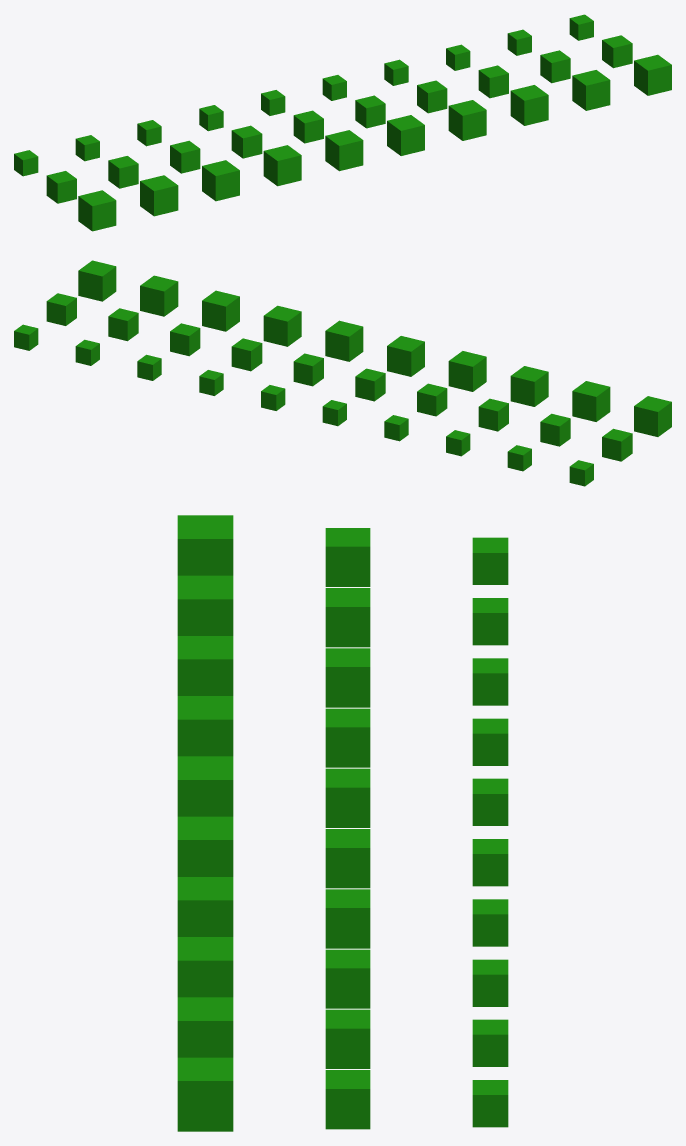
File: FlowersLvl4Decorative.fbx
3 renders of one model, top to bottom at view 1: azimuth 30°, elevation 25°; view 2: azimuth 150°, elevation 25°; view 3: azimuth 270°, elevation 25°, orthographic. The views are drawn at different scales.
Visible parts, largest first — view 1: Jasmine3, Lilac3, Hyacinth3, Hippeastrum3, Gladiolus3, Eustoma3, Gerbera3, Aster3, Gypsophila3, Calla3, Jasmine2, Hippeastrum2 (+18 smaller); view 2: Hippeastrum3, Gerbera3, Calla3, Aster3, Gypsophila3, Jasmine3, Lilac3, Gladiolus3, Eustoma3, Hyacinth3, Hippeastrum2, Aster2 (+18 smaller); view 3: Aster3, Gerbera3, Gladiolus3, Eustoma3, Hyacinth3, Gypsophila3, Jasmine3, Lilac3, Hippeastrum3, Calla3, Hippeastrum2, Calla2 (+18 smaller).
Part boxes in pixels (left/top/right/bottom): Jasmine3: left=263, top=145, right=301, bottom=186; Lilac3: left=140, top=175, right=178, bottom=216; Hyacinth3: left=510, top=85, right=548, bottom=125; Hippeastrum3: left=448, top=100, right=486, bottom=140; Gladiolus3: left=325, top=130, right=363, bottom=171; Eustoma3: left=78, top=190, right=116, bottom=231; Gerbera3: left=572, top=70, right=610, bottom=110; Aster3: left=634, top=54, right=671, bottom=95; Gypsophila3: left=387, top=115, right=424, bottom=155; Calla3: left=202, top=160, right=239, bottom=201; Jasmine2: left=231, top=125, right=262, bottom=158; Hippeastrum2: left=417, top=80, right=447, bottom=113; Hippeastrum3: left=263, top=305, right=301, bottom=346; Gerbera3: left=140, top=275, right=178, bottom=316; Calla3: left=510, top=366, right=548, bottom=406; Aster3: left=78, top=260, right=116, bottom=301; Gypsophila3: left=325, top=320, right=363, bottom=361; Jasmine3: left=448, top=351, right=486, bottom=391; Lilac3: left=572, top=381, right=610, bottom=421; Gladiolus3: left=387, top=336, right=424, bottom=376; Eustoma3: left=634, top=396, right=671, bottom=436; Hyacinth3: left=202, top=290, right=239, bottom=331; Hippeastrum2: left=231, top=338, right=262, bottom=371; Aster2: left=46, top=293, right=76, bottom=325; Aster3: left=177, top=1057, right=233, bottom=1131; Gerbera3: left=177, top=997, right=233, bottom=1057; Gladiolus3: left=177, top=756, right=233, bottom=816; Eustoma3: left=177, top=515, right=233, bottom=575; Hyacinth3: left=177, top=937, right=233, bottom=997; Gypsophila3: left=177, top=816, right=233, bottom=876; Jasmine3: left=177, top=696, right=233, bottom=756; Lilac3: left=177, top=575, right=233, bottom=635; Hippeastrum3: left=177, top=877, right=233, bottom=936; Calla3: left=177, top=636, right=233, bottom=695; Hippeastrum2: left=325, top=889, right=370, bottom=948; Calla2: left=325, top=648, right=370, bottom=707.
Bounding box in the file's own units: 939 × 39.06 × 232.
